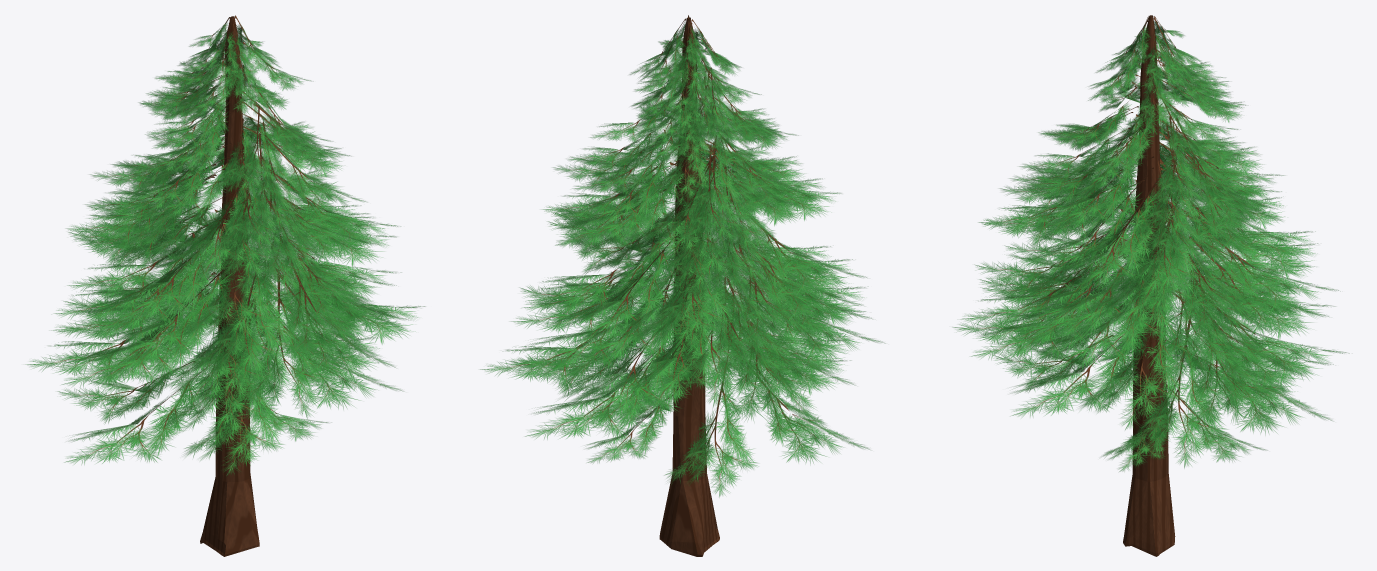
File: Pine Tree.glb
3 renders of one model, left to right at view 1: azimuth 30°, elevation 25°; view 2: azimuth 150°, elevation 25°; view 3: azimuth 270°, elevation 25°, orthographic.
Visible parts, largest first — view 1: Tree_RE One; view 2: Tree_RE One; view 3: Tree_RE One.
Boxes of the visible parts, <box> form: Tree_RE One: <box>25,15,425,556</box>; Tree_RE One: <box>480,15,885,556</box>; Tree_RE One: <box>952,15,1349,556</box>.
Size of the model in its own units: 3.02 by 3.99 by 2.92.
Materials: 2 (2 with a texture image).
